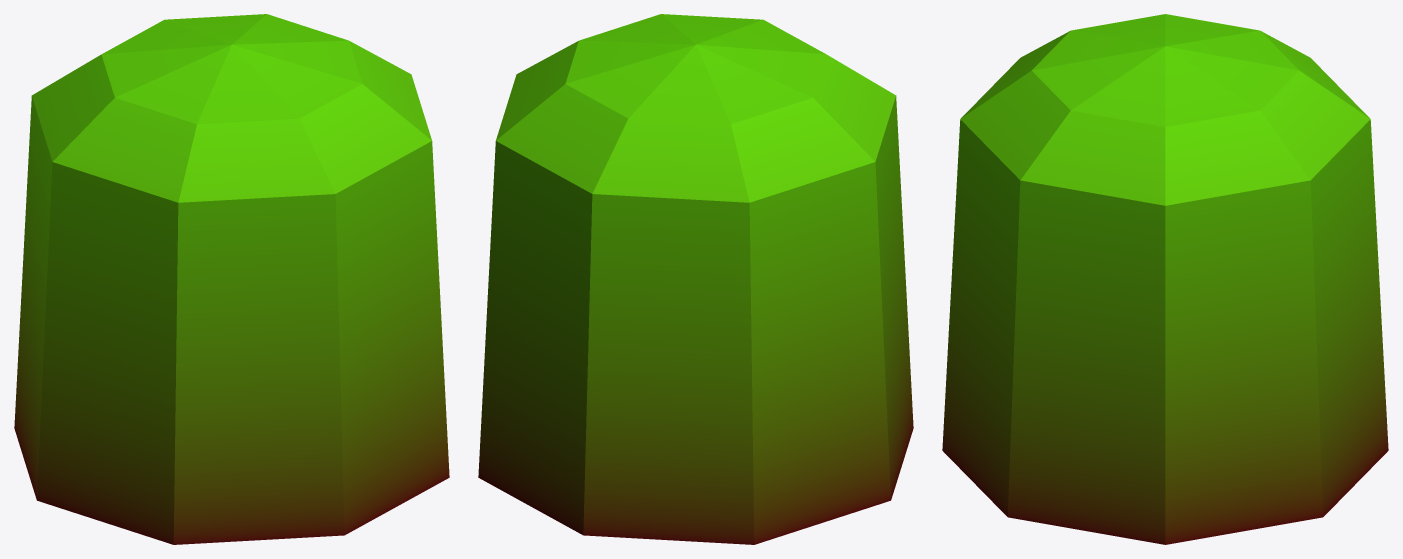
Rendered from family_succulent.glb.
3 views of the same model, side by side, from view 1: azimuth 30°, elevation 25°; view 2: azimuth 150°, elevation 25°; view 3: azimuth 270°, elevation 25° (orthographic).
Parts seen in each view (by area): view 1: family_succulent; view 2: family_succulent; view 3: family_succulent.
Part boxes in pixels (box(x1,y1,x2,y2)): family_succulent: box(14, 14, 449, 544); family_succulent: box(478, 14, 913, 544); family_succulent: box(942, 14, 1388, 544).
Bounding box in the file's own units: 1 × 1 × 1.
